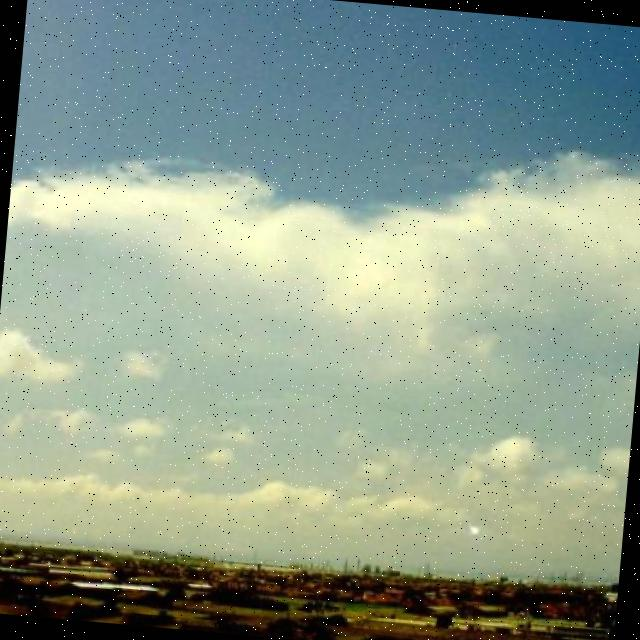St: (1, 88, 640, 568)
